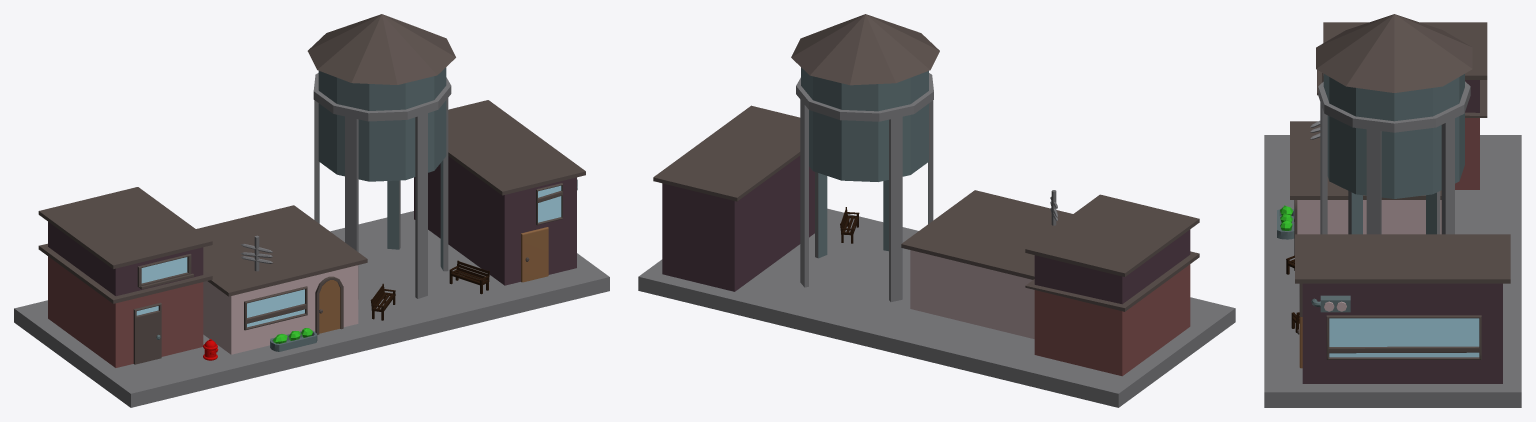
Rendered from Block_8.fbx.
3 views of the same model, side by side, from view 1: azimuth 30°, elevation 25°; view 2: azimuth 150°, elevation 25°; view 3: azimuth 270°, elevation 25° (orthographic). The views are drawn at different scales.
Visible parts, largest first — view 1: polySurface284, polySurface279, polySurface291, polySurface286, polySurface287, polySurface282, polySurface292, polySurface283, polySurface281, polySurface278, polySurface285, polySurface277 (+2 smaller); view 2: polySurface284, polySurface279, polySurface291, polySurface286, polySurface287, polySurface282, polySurface292; view 3: polySurface279, polySurface284, polySurface291, polySurface292, pasted__polySurface283, polySurface286, polySurface287, polySurface282, polySurface275, polySurface168__3_.
Boxes of the visible parts, x1,y1,x2,y2 form: polySurface284: (14,211,609,407); polySurface279: (414,100,585,285); polySurface291: (313,67,451,299); polySurface286: (196,205,367,354); polySurface287: (38,187,212,296); polySurface282: (38,243,212,367); polySurface292: (307,14,455,84); polySurface283: (244,286,307,330); polySurface281: (133,302,161,364); polySurface278: (315,276,343,334); polySurface285: (521,227,548,282); polySurface277: (137,254,193,289); polySurface284: (638,208,1235,407); polySurface279: (653,105,814,291); polySurface291: (796,67,933,301); polySurface286: (901,190,1072,338); polySurface287: (1025,194,1199,304); polySurface282: (1025,251,1199,376); polySurface292: (791,14,939,85); polySurface279: (1295,234,1510,383); polySurface284: (1264,135,1521,407); polySurface291: (1318,74,1470,234); polySurface292: (1316,14,1472,92); pasted__polySurface283: (1326,315,1481,359); polySurface286: (1290,121,1441,234); polySurface287: (1323,22,1487,112); polySurface282: (1455,80,1487,189); polySurface275: (1320,295,1350,312); polySurface168__3_: (1277,209,1294,239).
Size of the model in its own units: 710 by 390 by 299.
